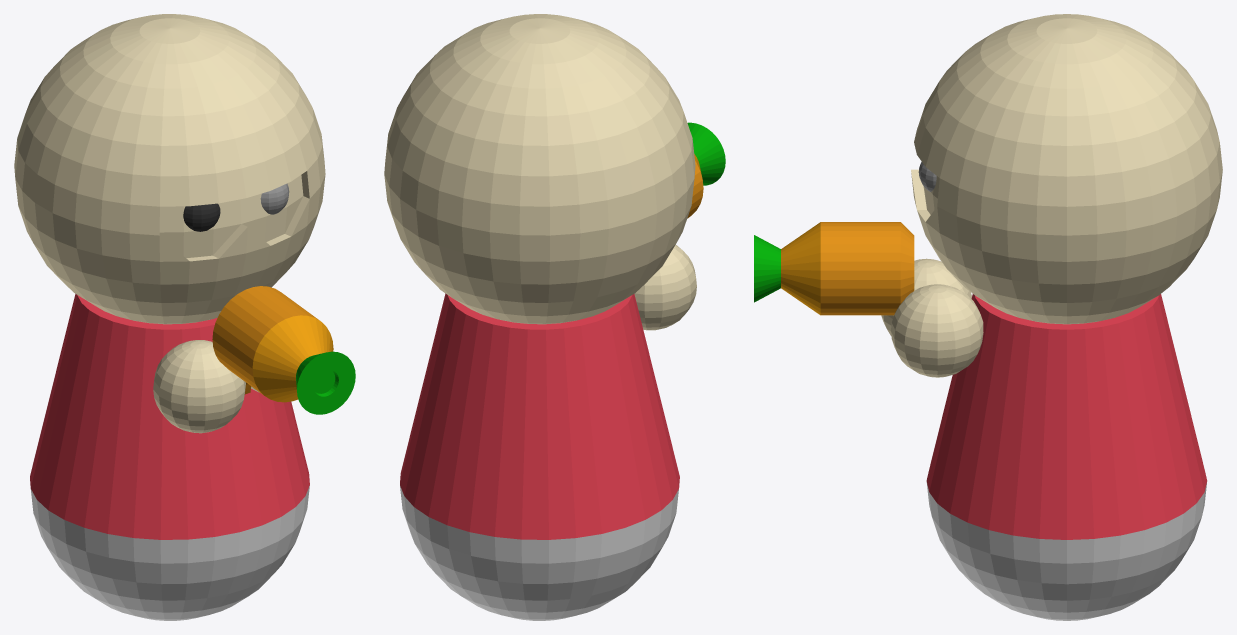
Rendered from player_red2.fbx.
The picture shows the model from 3 angles, left to right: view 1: azimuth 30°, elevation 25°; view 2: azimuth 150°, elevation 25°; view 3: azimuth 270°, elevation 25°; orthographic projection.
Visible parts, largest first — view 1: 球, 円柱, 球.005, 球.004, 円柱.003, 円柱.002, 円柱.001, 球.002, 球.001; view 2: 球, 円柱, 球.005, 球.004, 円柱.001; view 3: 球, 円柱, 球.005, 円柱.003, 球.003, 円柱.002, 円柱.001, 球.004.
Boxes of the visible parts, x1,y1,x2,y2 form: 球: (14, 14, 325, 324); 円柱: (30, 294, 309, 539); 球.005: (30, 485, 309, 620); 球.004: (153, 340, 245, 433); 円柱.003: (212, 286, 319, 394); 円柱.002: (252, 315, 333, 402); 円柱.001: (296, 351, 355, 414); 球.002: (183, 203, 220, 231); 球.001: (260, 183, 289, 214); 球: (384, 14, 695, 324); 円柱: (400, 293, 679, 539); 球.005: (400, 486, 678, 620); 球.004: (634, 245, 696, 330); 円柱.001: (687, 122, 725, 185); 球: (911, 14, 1222, 324); 円柱: (926, 294, 1207, 539); 球.005: (926, 482, 1206, 620); 円柱.003: (820, 222, 914, 315); 球.003: (891, 284, 983, 377); 円柱.002: (781, 222, 820, 315); 円柱.001: (754, 235, 780, 302); 球.004: (881, 258, 971, 335).
Size of the model in its own units: 200 by 410 by 301.
